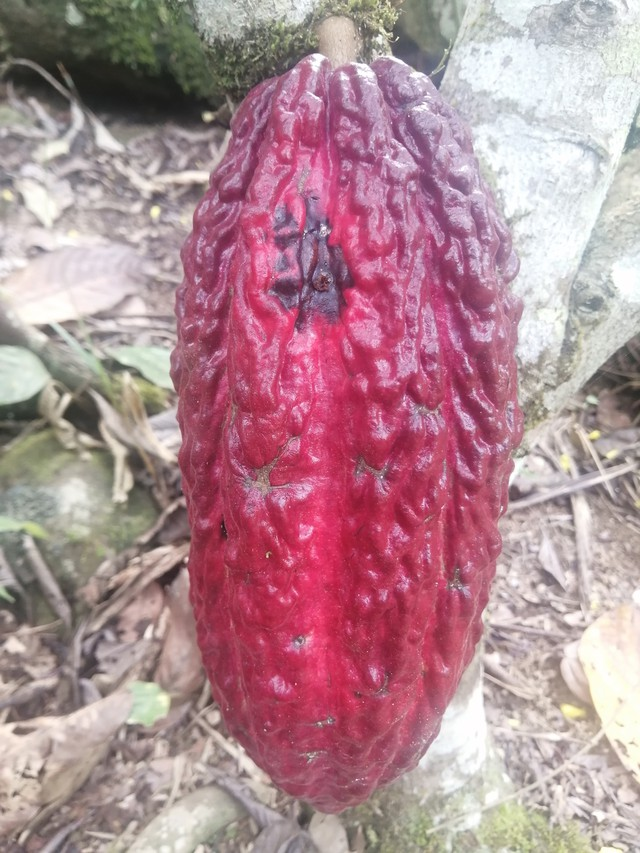carmenta foraseminis: (166, 50, 528, 820)
